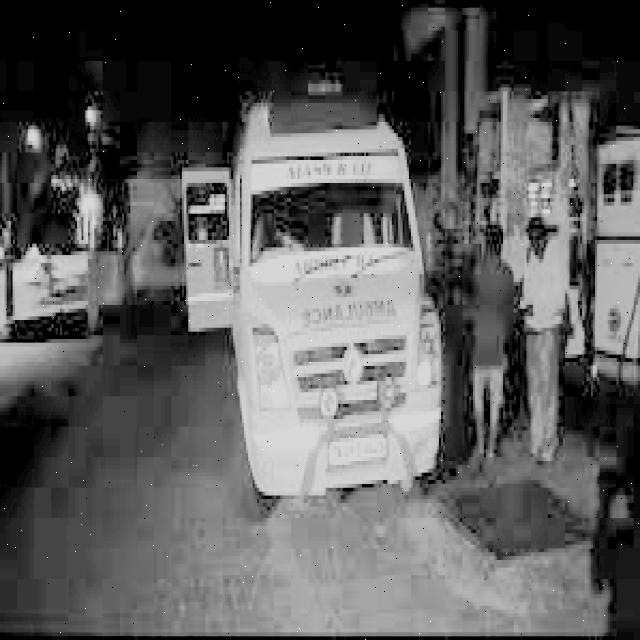Ambulance: (175, 109, 448, 512)
